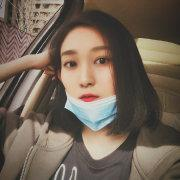WRONG: (59, 46, 130, 117)
